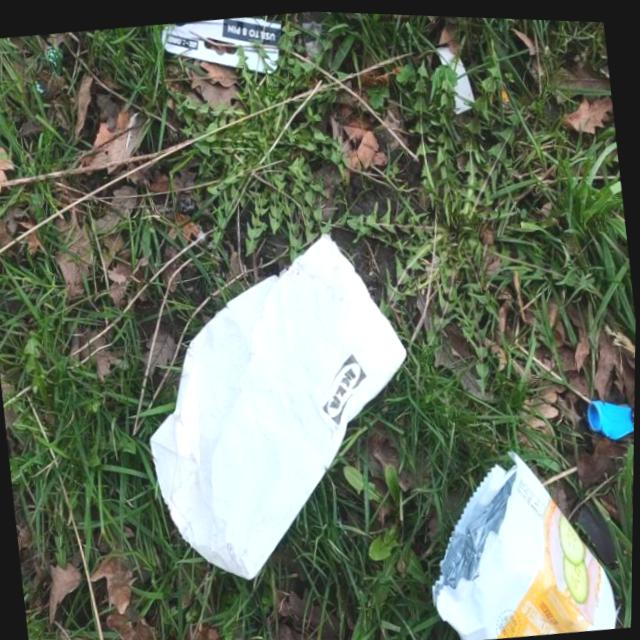Paper: (121, 208, 436, 593)
Plastic: (408, 430, 623, 640)
